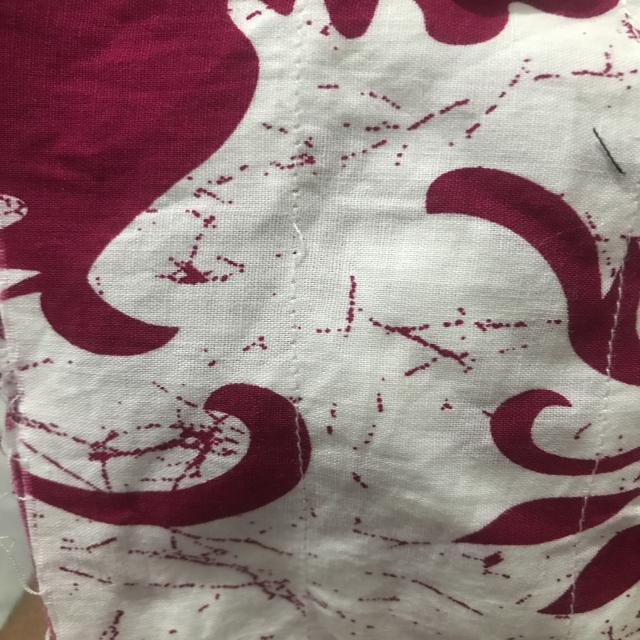skip: (265, 207, 334, 280)
